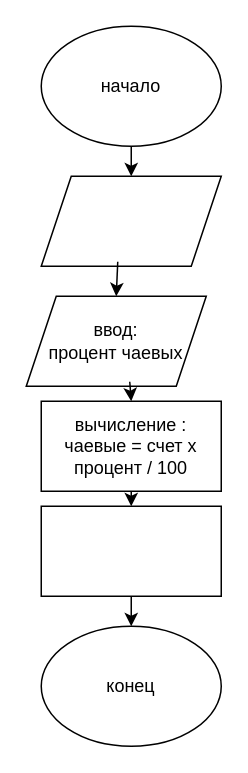
This 248x773 diagram has some shape labels left out. Each missing label, with the box of its shape:
ввод : сумма счета: (40, 175, 221, 266)
вычисление истог = счет+ чаевые: (40, 505, 221, 596)
